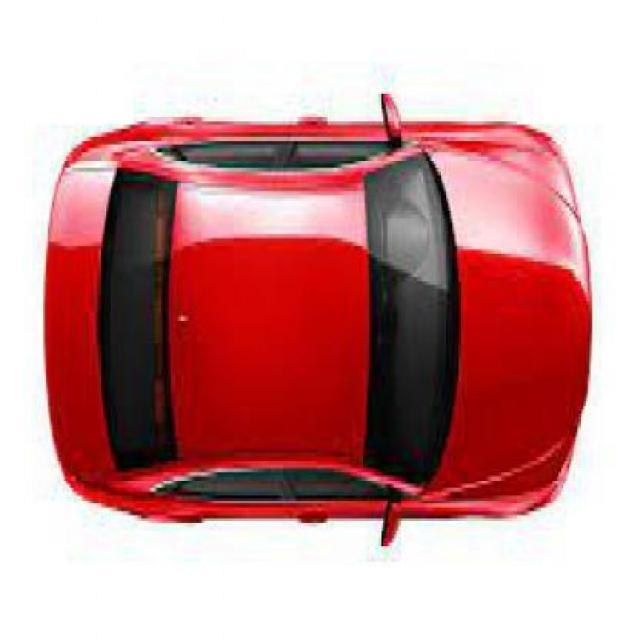vehicle: (39, 81, 598, 557)
